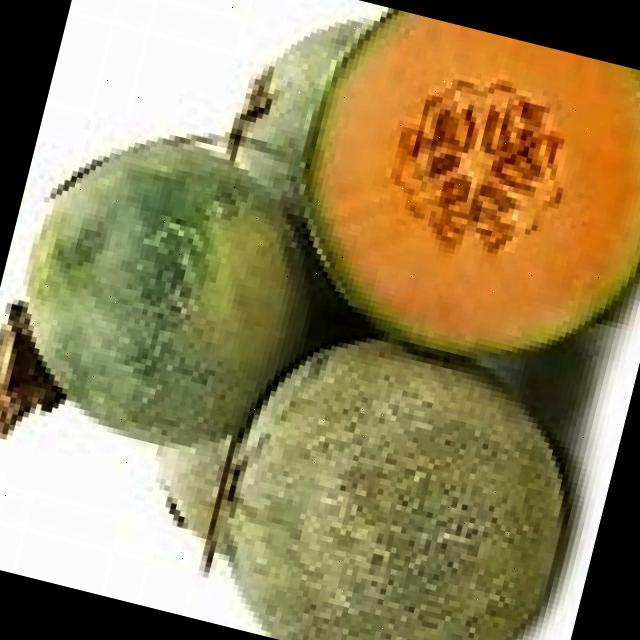Hami Melon: (263, 0, 640, 393), (190, 311, 599, 640)
